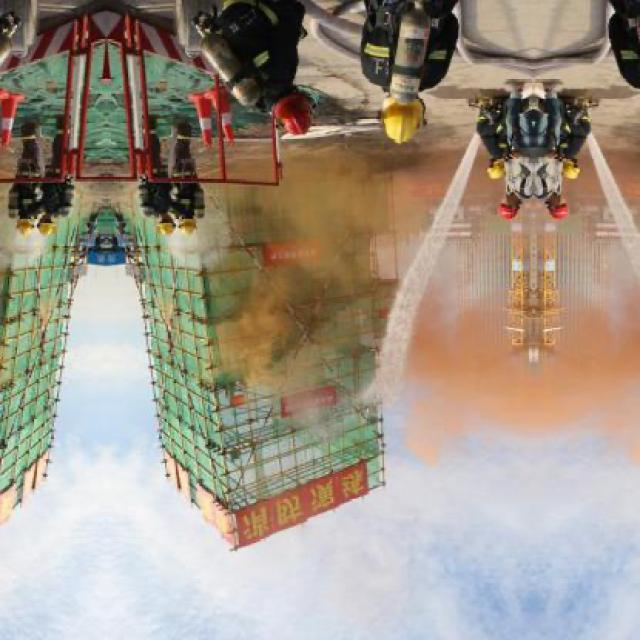con casco: (350, 74, 448, 158), (238, 79, 317, 139), (145, 204, 193, 240), (496, 176, 521, 234), (478, 146, 514, 184), (556, 142, 583, 188), (550, 188, 574, 235), (180, 207, 205, 241)
